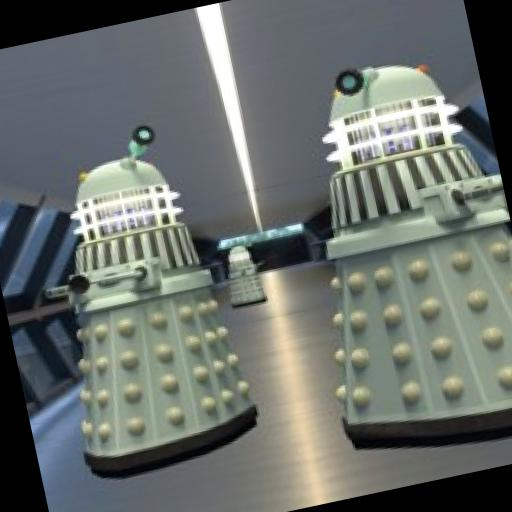dalek: (8, 89, 268, 494), (270, 37, 512, 464), (212, 230, 276, 316)
